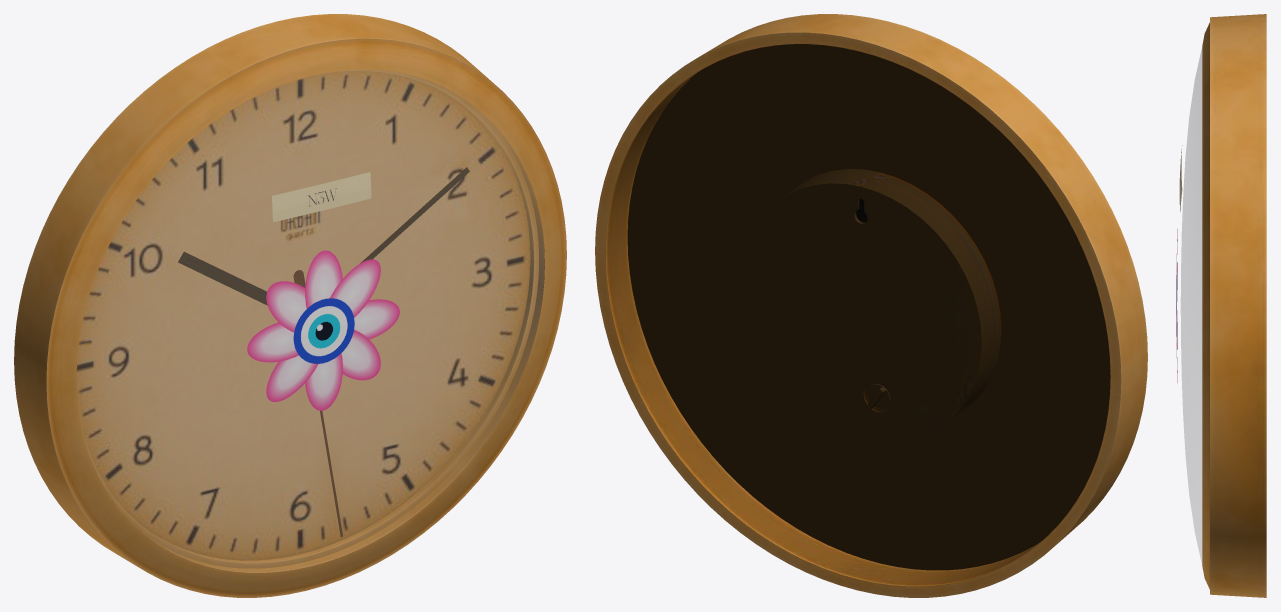
The model's file is nyb_tiffany_clock.glb.
3 views of the same model, side by side, from view 1: azimuth 30°, elevation 25°; view 2: azimuth 150°, elevation 25°; view 3: azimuth 270°, elevation 25° (orthographic). The views are drawn at different scales.
Visible parts, largest first — view 1: wall_clock_minute_hand, stk_eyeflower.png, stk_lbl_e42aa0664f.png; view 2: wall_clock_minute_hand; view 3: wall_clock_minute_hand, stk_eyeflower.png.
Boxes of the visible parts, bbox=[...] form: wall_clock_minute_hand: bbox=[14, 14, 566, 597]; stk_eyeflower.png: bbox=[247, 250, 399, 410]; stk_lbl_e42aa0664f.png: bbox=[272, 172, 371, 222]; wall_clock_minute_hand: bbox=[595, 14, 1147, 597]; wall_clock_minute_hand: bbox=[1181, 14, 1266, 597]; stk_eyeflower.png: bbox=[1176, 229, 1177, 382].
Size of the model in its own units: 0.3205 by 0.3205 by 0.0497.
Materials: 4 (3 with a texture image).
